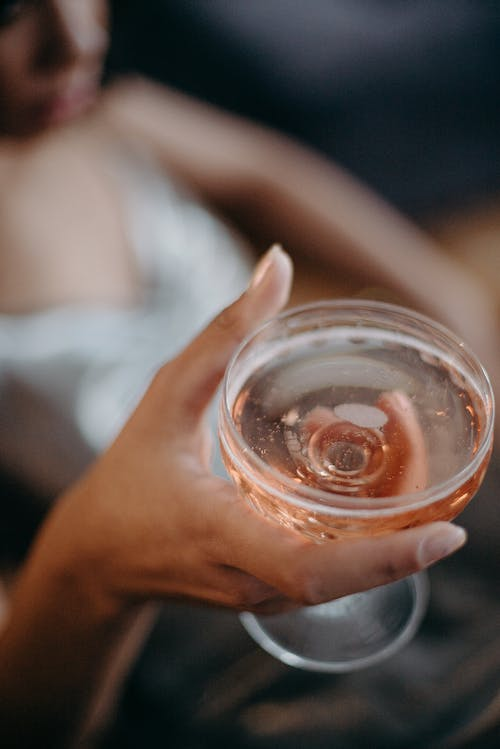alcohol: (214, 295, 497, 673)
